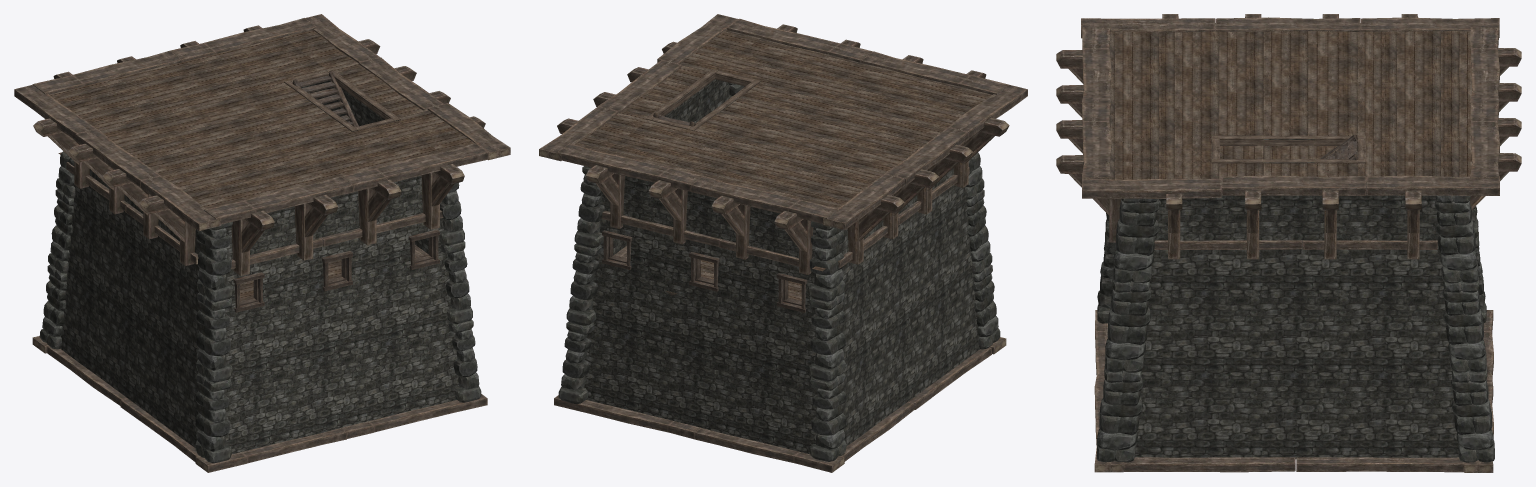
The model's file is jav_struc_fortkeep_truestone-transformed.glb.
3 views of the same model, side by side, from view 1: azimuth 30°, elevation 25°; view 2: azimuth 150°, elevation 25°; view 3: azimuth 270°, elevation 25° (orthographic). The views are drawn at different scales.
Visible parts, largest first — view 1: default; view 2: default; view 3: default.
Part boxes in pixels (x1,y1,x2,y2): default: (14,14,510,472); default: (539,14,1027,472); default: (1056,14,1521,472).
Size of the model in its own units: 21.84 by 15.9 by 22.71.
Materials: 5 (5 with a texture image).
